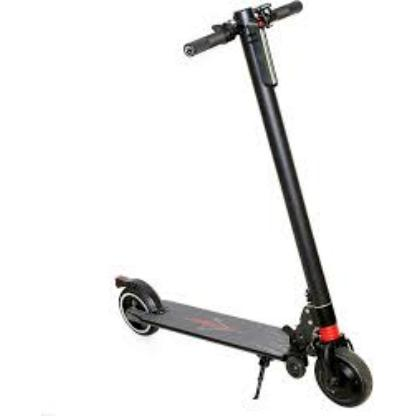bike: (113, 2, 373, 410)
